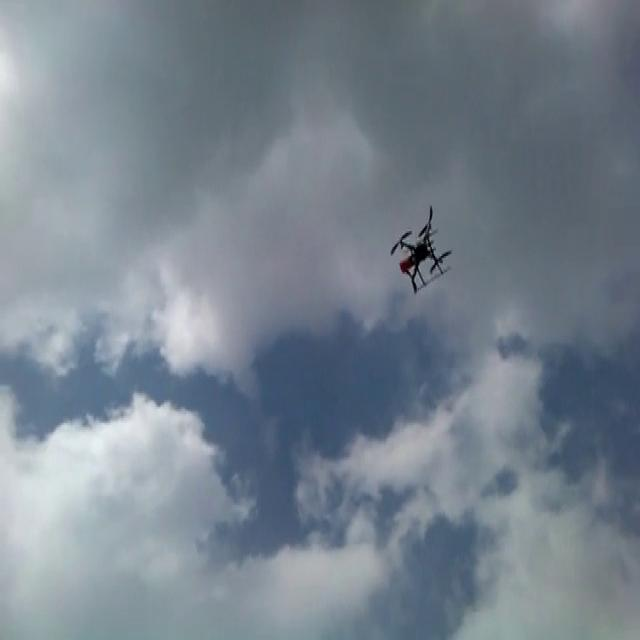drone: (389, 201, 454, 300)
